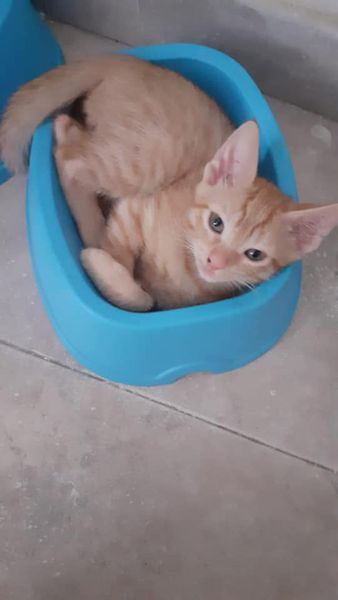cat: (1, 53, 335, 312)
